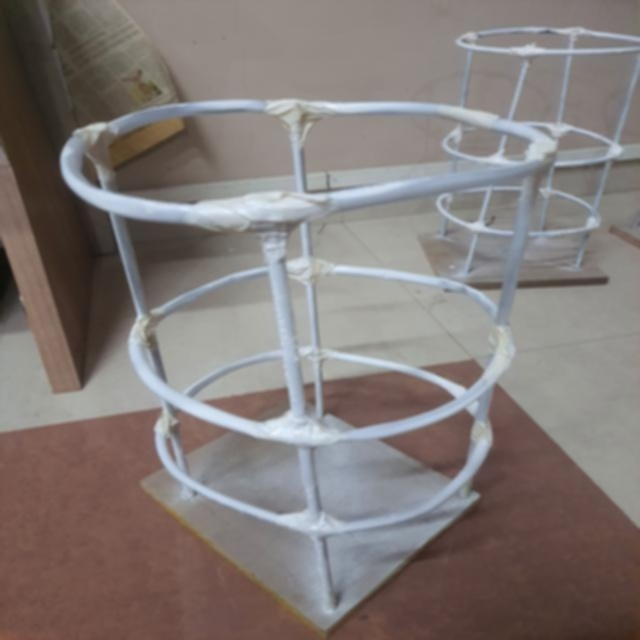silo: (74, 97, 489, 621), (428, 14, 624, 284)
